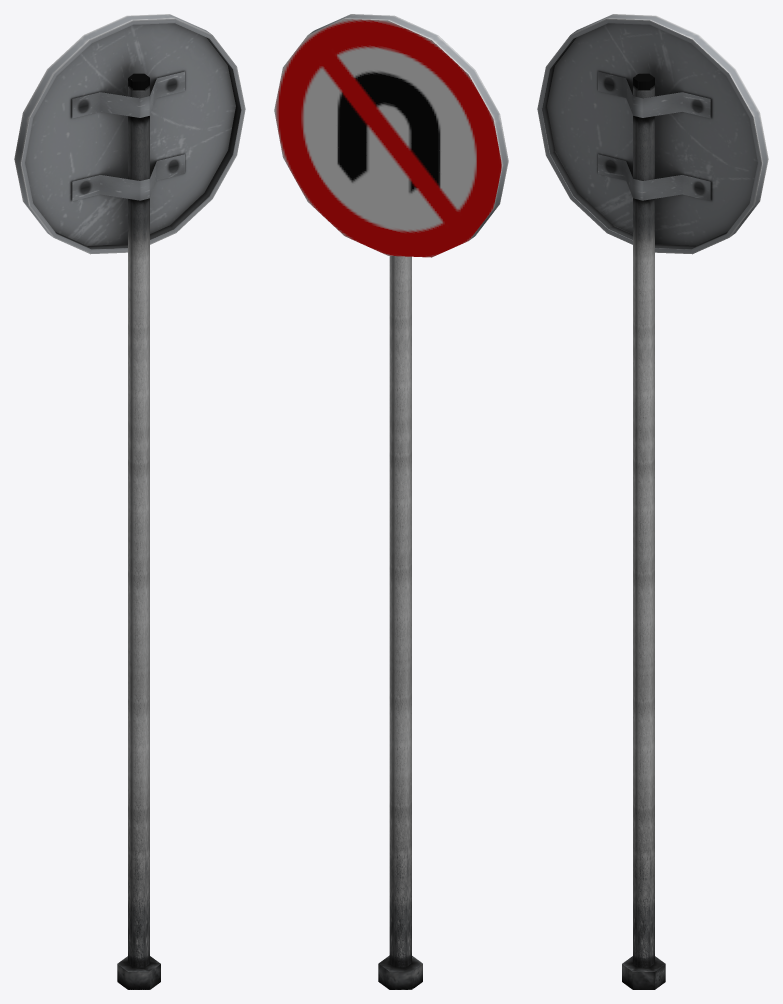
The model's file is TRF0310012.FBX.
3 renders of one model, left to right at view 1: azimuth 30°, elevation 25°; view 2: azimuth 150°, elevation 25°; view 3: azimuth 330°, elevation 25°, orthographic.
Parts seen in each view (by area): view 1: smTRF0310012; view 2: smTRF0310012; view 3: smTRF0310012.
Boxes of the visible parts, left/top/right/bottom form: smTRF0310012: left=14, top=14, right=245, bottom=989; smTRF0310012: left=274, top=14, right=508, bottom=989; smTRF0310012: left=537, top=14, right=768, bottom=989.
Bounding box in the file's own units: 72.09 × 293 × 12.96.
1 material, 1 textured.
